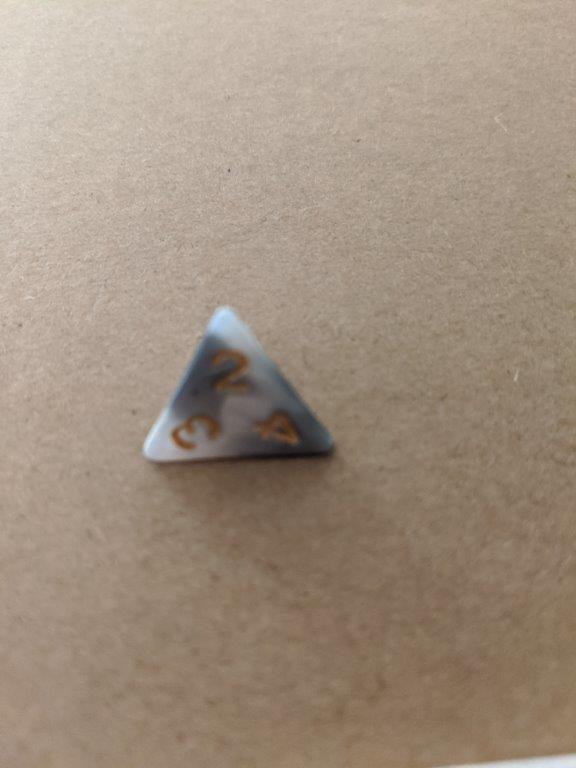d4-2: (133, 303, 336, 474)
